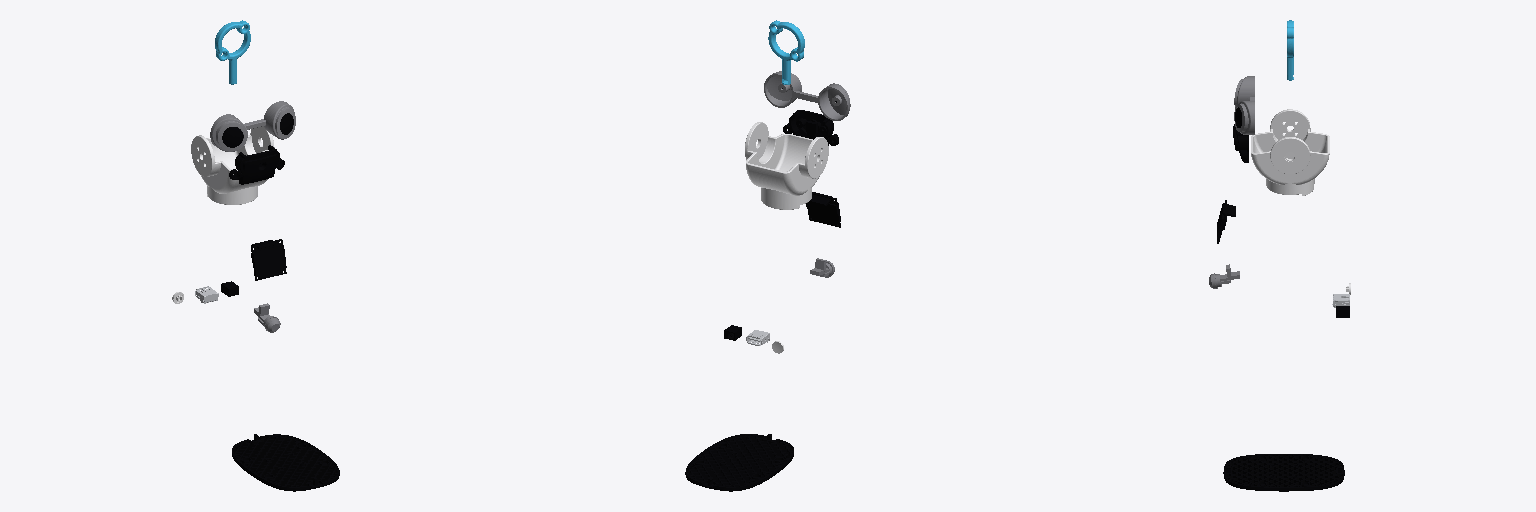
URDF robot description (pibo_10dof):
<?xml version="1.0"?>
<robot name="pibo_10dof">

  <material name="white"><color rgba="0.94 0.94 0.95 1"/></material>
  <material name="skyblue"><color rgba="0.30 0.74 0.90 1"/></material>
  <material name="dark"><color rgba="0.20 0.21 0.23 1"/></material>
  <material name="black"><color rgba="0.05 0.05 0.06 1"/></material>
  <material name="grey"><color rgba="0.55 0.55 0.57 1"/></material>
  <material name="silver"><color rgba="0.80 0.81 0.83 1"/></material>

  <link name="base_link">
    <visual>
      <origin xyz="-0.00000 -0.00000 -0.00000" rpy="0 0 0"/>
      <geometry><mesh filename="torso.stl" scale="0.001 0.001 0.001"/></geometry>
      <material name="white"/>
    </visual>
    <visual>
      <origin xyz="-0.00000 -0.00000 -0.00000" rpy="0 0 0"/>
      <geometry><mesh filename="torso_lcd.stl" scale="0.001 0.001 0.001"/></geometry>
      <material name="black"/>
    </visual>
    <visual>
      <origin xyz="-0.00000 -0.00000 -0.00000" rpy="0 0 0"/>
      <geometry><mesh filename="torso_sensor.stl" scale="0.001 0.001 0.001"/></geometry>
      <material name="grey"/>
    </visual>
    <visual>
      <origin xyz="-0.00000 -0.00000 -0.00000" rpy="0 0 0"/>
      <geometry><mesh filename="torso_button.stl" scale="0.001 0.001 0.001"/></geometry>
      <material name="white"/>
    </visual>
    <visual>
      <origin xyz="-0.00000 -0.00000 -0.00000" rpy="0 0 0"/>
      <geometry><mesh filename="torso_dc.stl" scale="0.001 0.001 0.001"/></geometry>
      <material name="black"/>
    </visual>
    <visual>
      <origin xyz="-0.00000 -0.00000 -0.00000" rpy="0 0 0"/>
      <geometry><mesh filename="torso_usb.stl" scale="0.001 0.001 0.001"/></geometry>
      <material name="silver"/>
    </visual>
  </link>

  <!-- HEAD PAN M4 +-50 -->
  <joint name="head_pan_joint" type="revolute">
    <parent link="base_link"/><child link="head_pan_link"/>
    <origin xyz="0.00000 0.00007 0.23833"/>
    <axis xyz="0 0 1"/>
    <limit lower="-0.8727" upper="0.8727" effort="1.0" velocity="2.0"/>
  </joint>
  <link name="head_pan_link">
    <visual>
      <origin xyz="-0.00000 -0.00007 -0.23833" rpy="0 0 0"/>
      <geometry><mesh filename="neck_l.stl" scale="0.001 0.001 0.001"/></geometry>
      <material name="white"/>
    </visual>
  </link>

  <!-- HEAD TILT M5 +-25 -->
  <joint name="head_tilt_joint" type="revolute">
    <parent link="head_pan_link"/><child link="head_link"/>
    <origin xyz="0.00066 0.00007 0.04793"/>
    <axis xyz="1 0 0"/>
    <limit lower="-0.4363" upper="0.4363" effort="1.0" velocity="2.0"/>
  </joint>
  <link name="head_link">
    <visual>
      <origin xyz="-0.00067 -0.00014 -0.28627" rpy="0 0 0"/>
      <geometry><mesh filename="head.stl" scale="0.001 0.001 0.001"/></geometry>
      <material name="white"/>
    </visual>
    <visual>
      <origin xyz="-0.00067 -0.00014 -0.28627" rpy="0 0 0"/>
      <geometry><mesh filename="head_top.stl" scale="0.001 0.001 0.001"/></geometry>
      <material name="skyblue"/>
    </visual>
    <visual>
      <origin xyz="-0.00067 -0.00014 -0.28627" rpy="0 0 0"/>
      <geometry><mesh filename="head_eye.stl" scale="0.001 0.001 0.001"/></geometry>
      <material name="black"/>
    </visual>
    <visual>
      <origin xyz="-0.00067 -0.00014 -0.28627" rpy="0 0 0"/>
      <geometry><mesh filename="head_glasses.stl" scale="0.001 0.001 0.001"/></geometry>
      <material name="grey"/>
    </visual>
    <visual>
      <origin xyz="-0.00067 -0.00014 -0.28627" rpy="0 0 0"/>
      <geometry><mesh filename="head_mouth.stl" scale="0.001 0.001 0.001"/></geometry>
      <material name="black"/>
    </visual>
  </link>

  <!-- SHOULDER L M8 +-80 -->
  <joint name="shoulder_l_joint" type="revolute">
    <parent link="base_link"/><child link="shoulder_l_link"/>
    <origin xyz="0.06451 0.00014 0.20270"/>
    <axis xyz="1 0 0"/>
    <limit lower="-1.3963" upper="1.3963" effort="1.0" velocity="2.0"/>
  </joint>
  <link name="shoulder_l_link">
    <visual>
      <origin xyz="-0.06451 -0.00014 -0.20270" rpy="0 0 0"/>
      <geometry><mesh filename="shoulder_l.stl" scale="0.001 0.001 0.001"/></geometry>
      <material name="white"/>
    </visual>
  </link>

  <!-- ELBOW L M9 +-30 -->
  <joint name="elbow_l_joint" type="revolute">
    <parent link="shoulder_l_link"/><child link="arm_l_link"/>
    <origin xyz="0.03852 0.00008 -0.02552"/>
    <axis xyz="0 1 0"/>
    <limit lower="-0.5236" upper="0.5236" effort="1.0" velocity="2.0"/>
  </joint>
  <link name="arm_l_link">
    <visual>
      <origin xyz="-0.10303 -0.00023 -0.17717" rpy="0 0 0"/>
      <geometry><mesh filename="arm_l.stl" scale="0.001 0.001 0.001"/></geometry>
      <material name="white"/>
    </visual>
  </link>

  <!-- SHOULDER R M2 +-80 -->
  <joint name="shoulder_r_joint" type="revolute">
    <parent link="base_link"/><child link="shoulder_r_link"/>
    <origin xyz="-0.06446 0.00014 0.20304"/>
    <axis xyz="-1 0 0"/>
    <limit lower="-1.3963" upper="1.3963" effort="1.0" velocity="2.0"/>
  </joint>
  <link name="shoulder_r_link">
    <visual>
      <origin xyz="0.06446 -0.00014 -0.20304" rpy="0 0 0"/>
      <geometry><mesh filename="shoulder_r.stl" scale="0.001 0.001 0.001"/></geometry>
      <material name="white"/>
    </visual>
  </link>

  <!-- ELBOW R M3 +-30 -->
  <joint name="elbow_r_joint" type="revolute">
    <parent link="shoulder_r_link"/><child link="arm_r_link"/>
    <origin xyz="-0.03849 -0.00069 -0.02580"/>
    <axis xyz="0 1 0"/>
    <limit lower="-0.5236" upper="0.5236" effort="1.0" velocity="2.0"/>
  </joint>
  <link name="arm_r_link">
    <visual>
      <origin xyz="0.10295 0.00055 -0.17725" rpy="0 0 0"/>
      <geometry><mesh filename="arm_r.stl" scale="0.001 0.001 0.001"/></geometry>
      <material name="white"/>
    </visual>
  </link>

  <!-- HIP L M7 +-35 -->
  <joint name="hip_l_joint" type="revolute">
    <parent link="base_link"/><child link="leg_l_link"/>
    <origin xyz="0.03301 0.00024 0.11176"/>
    <axis xyz="0 0 -1"/>
    <limit lower="-0.6109" upper="0.6109" effort="1.0" velocity="2.0"/>
  </joint>
  <link name="leg_l_link">
    <visual>
      <origin xyz="-0.03301 -0.00024 -0.11176" rpy="0 0 0"/>
      <geometry><mesh filename="leg_l.stl" scale="0.001 0.001 0.001"/></geometry>
      <material name="white"/>
    </visual>
  </link>

  <!-- ANKLE L M6 +-25 -->
  <joint name="ankle_l_joint" type="revolute">
    <parent link="leg_l_link"/><child link="foot_l_link"/>
    <origin xyz="0.00257 -0.00583 -0.07298"/>
    <axis xyz="0 1 0"/>
    <limit lower="-0.4363" upper="0.4363" effort="1.0" velocity="2.0"/>
  </joint>
  <link name="foot_l_link">
    <visual>
      <origin xyz="-0.03558 0.00558 -0.03878" rpy="0 0 0"/>
      <geometry><mesh filename="foot_l.stl" scale="0.001 0.001 0.001"/></geometry>
      <material name="white"/>
    </visual>
    <visual>
      <origin xyz="-0.03558 0.00558 -0.03878" rpy="0 0 0"/>
      <geometry><mesh filename="shoes_l.stl" scale="0.001 0.001 0.001"/></geometry>
      <material name="black"/>
    </visual>
  </link>

  <!-- HIP R M1 +-35 -->
  <joint name="hip_r_joint" type="revolute">
    <parent link="base_link"/><child link="leg_r_link"/>
    <origin xyz="-0.03328 0.00202 0.11180"/>
    <axis xyz="0 0 -1"/>
    <limit lower="-0.6109" upper="0.6109" effort="1.0" velocity="2.0"/>
  </joint>
  <link name="leg_r_link">
    <visual>
      <origin xyz="0.03328 -0.00202 -0.11180" rpy="0 0 0"/>
      <geometry><mesh filename="leg_r.stl" scale="0.001 0.001 0.001"/></geometry>
      <material name="white"/>
    </visual>
  </link>

  <!-- ANKLE R M0 +-25 -->
  <joint name="ankle_r_joint" type="revolute">
    <parent link="leg_r_link"/><child link="foot_r_link"/>
    <origin xyz="-0.00230 -0.00733 -0.07272"/>
    <axis xyz="0 1 0"/>
    <limit lower="-0.4363" upper="0.4363" effort="1.0" velocity="2.0"/>
  </joint>
  <link name="foot_r_link">
    <visual>
      <origin xyz="0.03559 0.00531 -0.03907" rpy="0 0 0"/>
      <geometry><mesh filename="foot_r.stl" scale="0.001 0.001 0.001"/></geometry>
      <material name="white"/>
    </visual>
    <visual>
      <origin xyz="0.03559 0.00531 -0.03907" rpy="0 0 0"/>
      <geometry><mesh filename="shoes_r.stl" scale="0.001 0.001 0.001"/></geometry>
      <material name="black"/>
    </visual>
  </link>

</robot>

--- Render facts (derived) ---
Views: 3 orthographic renders of the robot side by side, from view 1: azimuth 30°, elevation 25°; view 2: azimuth 150°, elevation 25°; view 3: azimuth 270°, elevation 25°.
Model pibo_10dof with 11 links and 10 joints (10 revolute), rooted at base_link, posed all joints at 0.
Links seen in each view (by area): view 1: head_link, foot_l_link, head_pan_link, base_link; view 2: head_pan_link, foot_l_link, head_link, base_link; view 3: head_pan_link, foot_l_link, head_link, base_link.
Link boxes in pixels (left/top/right/bottom): head_link: left=210, top=20, right=295, bottom=184; foot_l_link: left=232, top=434, right=339, bottom=491; head_pan_link: left=191, top=126, right=274, bottom=204; base_link: left=172, top=239, right=286, bottom=332; head_pan_link: left=745, top=122, right=828, bottom=209; foot_l_link: left=685, top=434, right=793, bottom=491; head_link: left=764, top=20, right=850, bottom=145; base_link: left=724, top=192, right=840, bottom=353; head_pan_link: left=1251, top=109, right=1329, bottom=195; foot_l_link: left=1223, top=454, right=1344, bottom=491; head_link: left=1233, top=20, right=1293, bottom=162; base_link: left=1209, top=200, right=1350, bottom=317.
Bounding box of the posed robot: 0.1171 × 0.1186 × 0.3938 m (x, y, z).
11 mesh visuals loaded from 22 distinct referenced files (11 binary STL); not drawn: 11 (reference not matched to a file when rendering).
